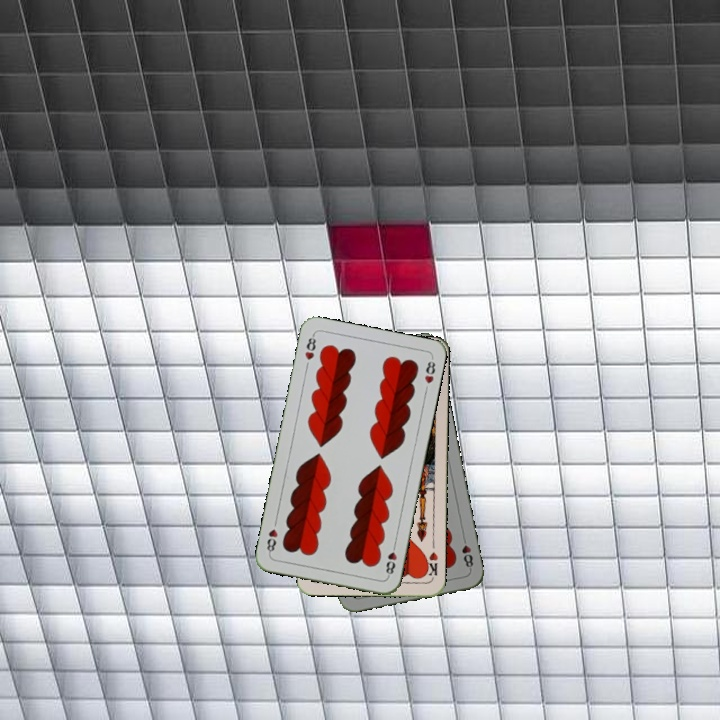H8: (458, 532, 476, 573), (382, 539, 399, 579), (301, 331, 318, 363)
HK: (421, 548, 440, 581)
